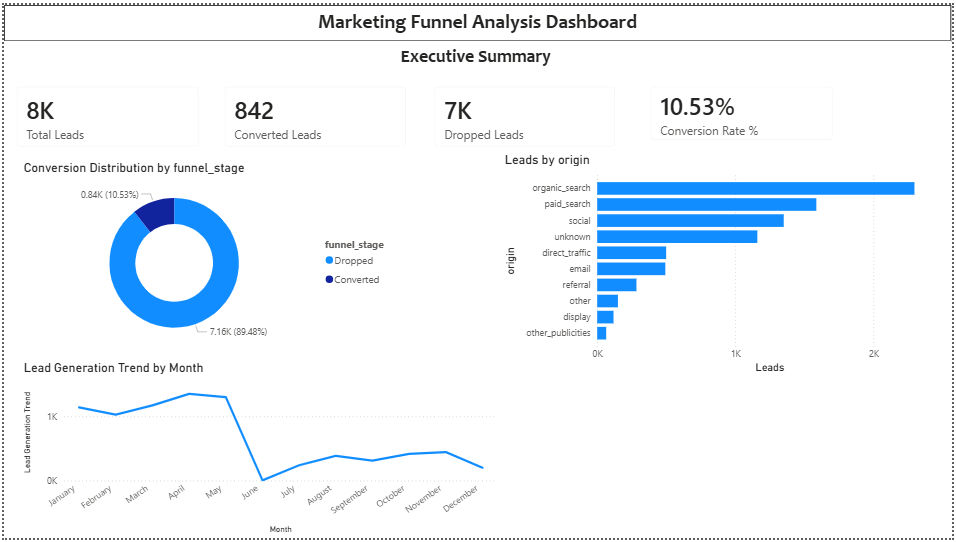

This screenshot's page, from the dashboard's own definition file:
{"tool":"powerbi","page":{"name":"Executive Summary","canvas":[1280,720],"ordinal":0},"visuals":[{"type":"cardVisual","fields":{"Data":["olist_funnel_cleaned.Converted Leads"]},"box":[281,93.7,279.5,115.6],"z":0},{"type":"cardVisual","fields":{"Data":["olist_funnel_cleaned.Total Leads"]},"box":[0,93.7,281,115.6],"z":1000},{"type":"cardVisual","fields":{"Data":["olist_funnel_cleaned.Conversion Rate %"]},"box":[856.1,93.7,281,106.8],"z":2000},{"type":"cardVisual","fields":{"Data":["olist_funnel_cleaned.Dropped Leads"]},"box":[564.9,93.7,278,115.6],"z":3000},{"type":"donutChart","fields":{"Category":["olist_funnel_cleaned.funnel_stage"],"Y":["CountNonNull(olist_funnel_cleaned.funnel_stage)"]},"box":[22,209.3,513.7,259],"z":4000},{"type":"clusteredBarChart","fields":{"Category":["olist_funnel_cleaned.origin"],"Y":["CountNonNull(olist_funnel_cleaned.mql_id)"]},"box":[671.7,199,608.8,304.4],"z":5000},{"type":"lineChart","fields":{"Category":["olist_funnel_cleaned.first_contact_date.Variation.Date Hierarchy.Month"],"Y":["CountNonNull(olist_funnel_cleaned.mql_id)"]},"box":[22,480,649.8,240],"z":6000},{"type":"textbox","box":[0,0,1279.7,48.6],"z":7000},{"type":"textbox","box":[0,48.6,1279.7,45.9],"z":8000}]}

Visuals, with their boxes in screenshot pixels (x1, y1, x2, y2), scaled from the page's 1280x720 canvas onto the 956x542 screenshot:
cardVisual - olist_funnel_cleaned.Converted Leads: (left=210, top=71, right=419, bottom=158)
cardVisual - olist_funnel_cleaned.Total Leads: (left=0, top=71, right=210, bottom=158)
cardVisual - olist_funnel_cleaned.Conversion Rate %: (left=639, top=71, right=849, bottom=151)
cardVisual - olist_funnel_cleaned.Dropped Leads: (left=422, top=71, right=630, bottom=158)
donutChart - olist_funnel_cleaned.funnel_stage x CountNonNull(olist_funnel_cleaned.funnel_stage): (left=16, top=158, right=400, bottom=353)
clusteredBarChart - olist_funnel_cleaned.origin x CountNonNull(olist_funnel_cleaned.mql_id): (left=502, top=150, right=955, bottom=379)
lineChart - olist_funnel_cleaned.first_contact_date.Variation.Date Hierarchy.Month x CountNonNull(olist_funnel_cleaned.mql_id): (left=16, top=361, right=502, bottom=541)
textbox: (left=0, top=0, right=955, bottom=37)
textbox: (left=0, top=37, right=955, bottom=71)
